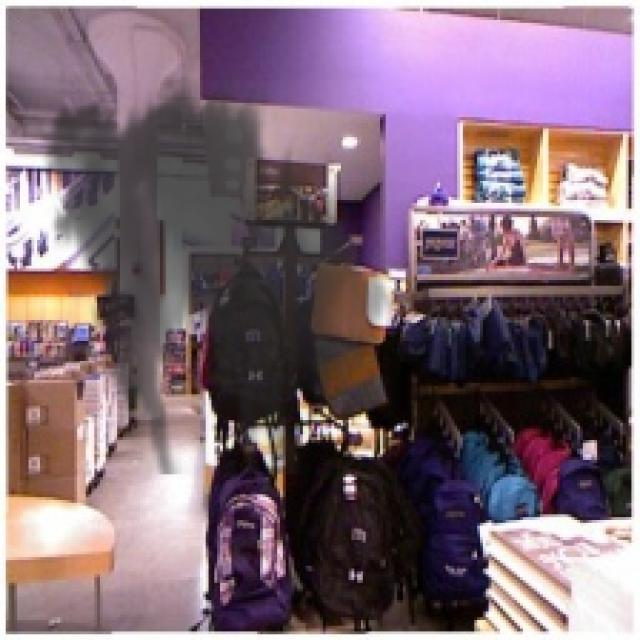Smoke: (26, 66, 400, 474)
